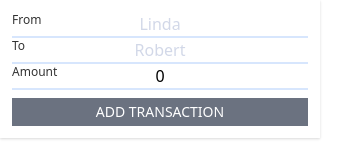
Test: inputTransaction › After add button is clicked, all input fields are cleared
Type "Nicole" into the field labelled "From" at [160, 25], box [12,12,308,38]
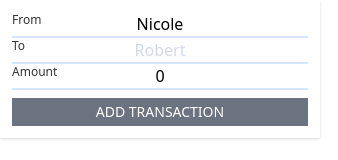
Type "Jimmy" into the field labelled "To" at [160, 51], box [12,38,308,64]
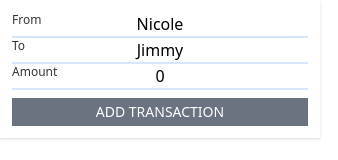
Replace the text in the number field labelled "Amount" with "501" at [160, 77], box [12,64,308,90]
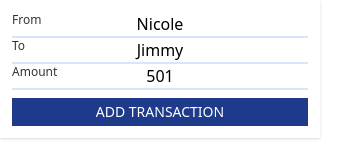
Click the button "Add transaction" at [160, 112], box [12,98,308,126]
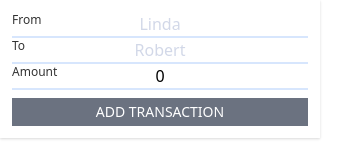
Now the field labelled "From" is empty, box [12,12,308,38]
Now the field labelled "To" is empty, box [12,38,308,64]
Now the number field labelled "Amount" holds "0", box [12,64,308,90]
